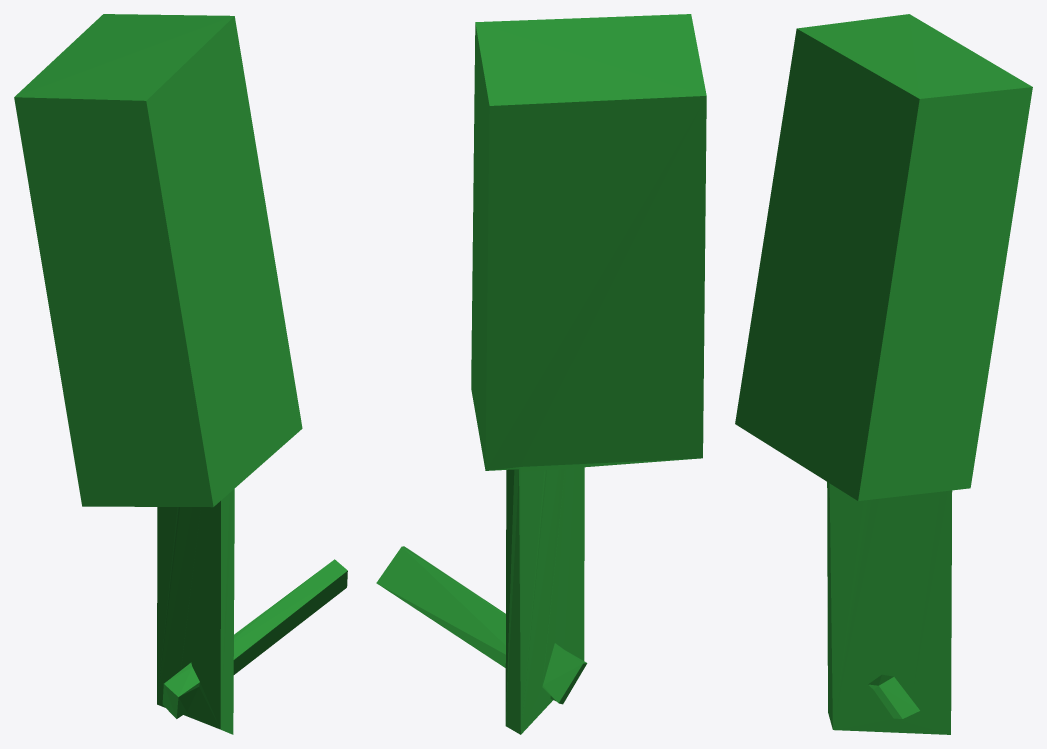
3 views of the same model, side by side, from view 1: azimuth 30°, elevation 25°; view 2: azimuth 150°, elevation 25°; view 3: azimuth 270°, elevation 25° (orthographic). The views are drawn at different scales.
Visible parts, largest first — view 1: 422_Cube.1714; view 2: 422_Cube.1714; view 3: 422_Cube.1714.
Part boxes in pixels (x1,y1,x2,y2): 422_Cube.1714: [14, 14, 347, 734]; 422_Cube.1714: [376, 14, 706, 734]; 422_Cube.1714: [735, 14, 1032, 734].
Bounding box in the file's own units: 10.28 × 20.44 × 8.32.
